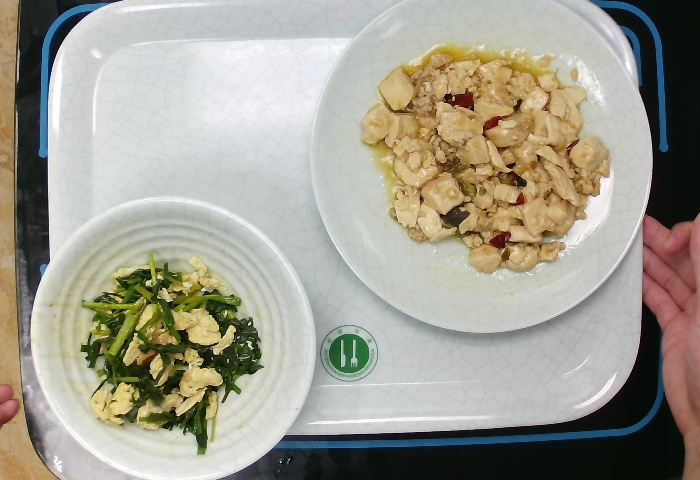JYsf-Da_Yuan_Pan: (306, 1, 656, 338)
JYsf-Xiao_Tang_Wan: (26, 192, 321, 480)
